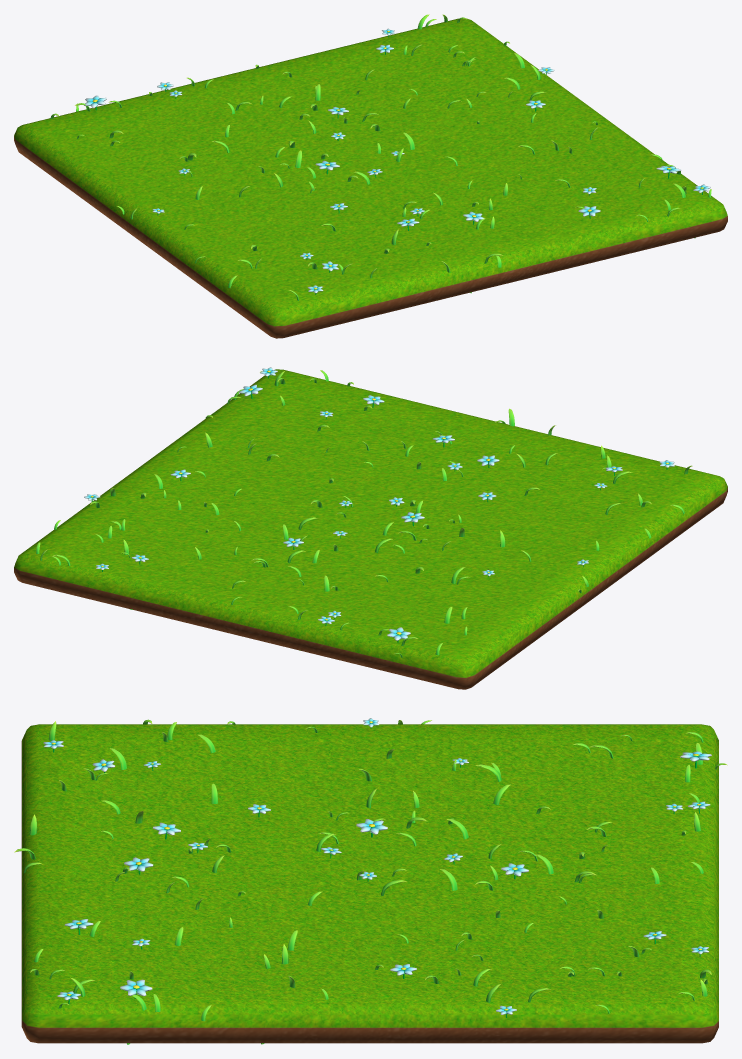
File: mainstage.fbx
3 views of the same model, one above another, from view 1: azimuth 30°, elevation 25°; view 2: azimuth 150°, elevation 25°; view 3: azimuth 270°, elevation 25° (orthographic). The views are drawn at different scales.
Parts seen in each view (by area): view 1: Cube_1; view 2: Cube_1; view 3: Cube_1.
Part boxes in pixels (x1=…): Cube_1: x1=14, y1=18, x2=727, y2=338; Cube_1: x1=14, y1=369, x2=727, y2=689; Cube_1: x1=21, y1=724, x2=718, y2=1043.
Bounding box in the file's own units: 202 × 17.31 × 205.
Materials: 3 (3 with a texture image).
